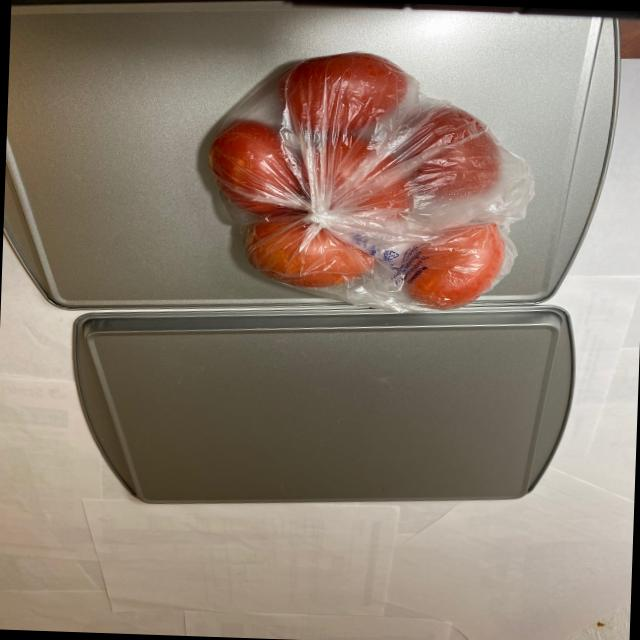tomato: (212, 49, 511, 316)
